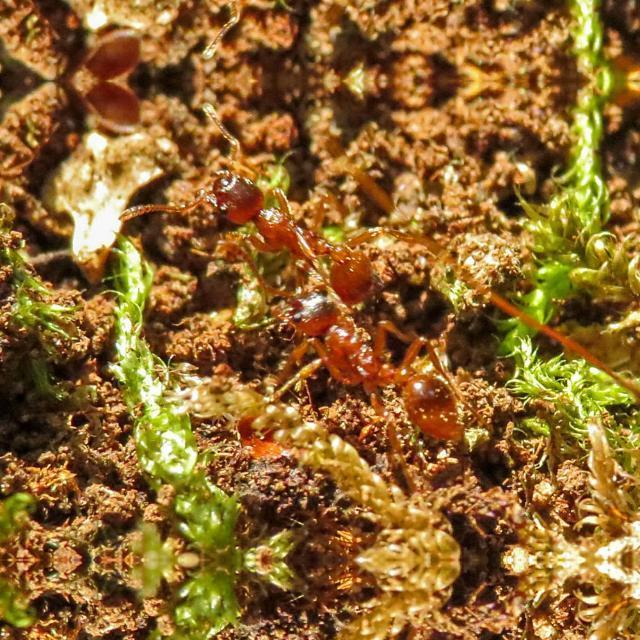Myrmica: (267, 265, 489, 445), (185, 144, 407, 288)
